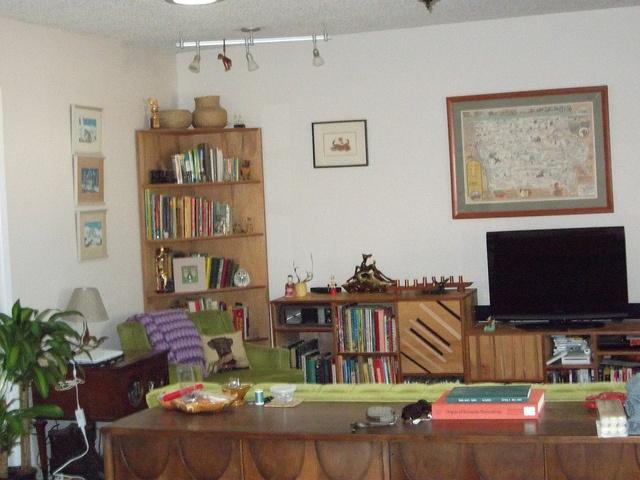AIO PC-Monitor-TV: (485, 224, 631, 330)
Rak: (134, 125, 273, 351)
